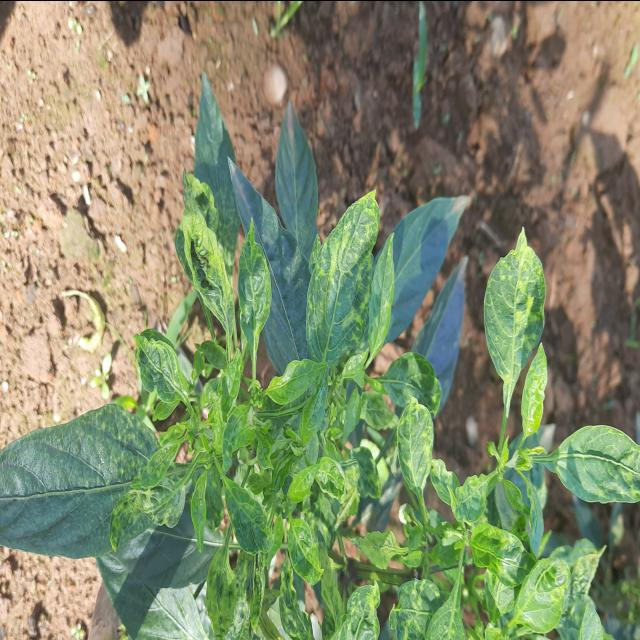thrips: (283, 168, 389, 376), (471, 205, 558, 404), (395, 404, 445, 524), (236, 245, 278, 361)
